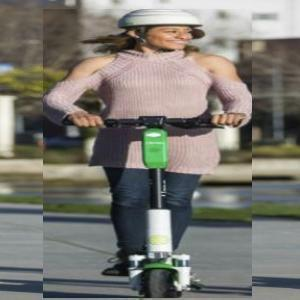with scooter: (43, 9, 252, 298)
